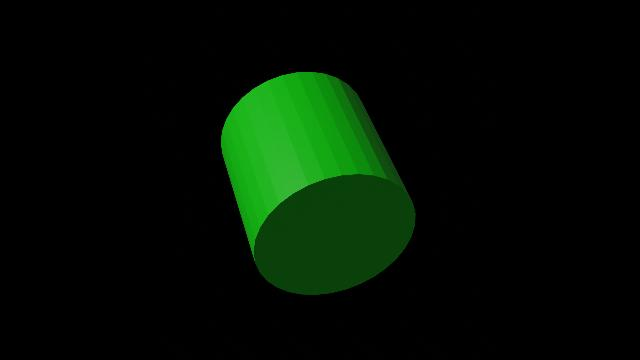Cylinder: (206, 64, 422, 301)
